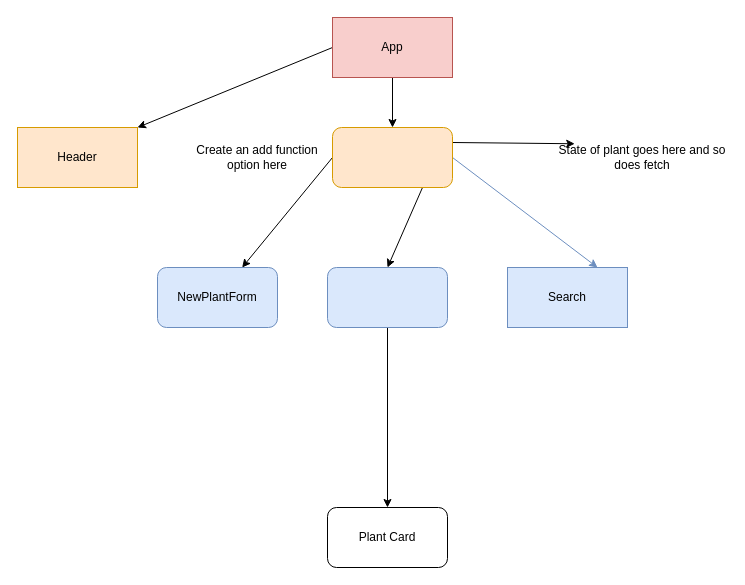
Image size: 745x585. Some labels were removed from this diagram. The shapes that lost their labels are listed below. From the top down, each one's centre as x and y in pixels, then its label:
point 392,157: Plant Page
point 387,297: Plant List
